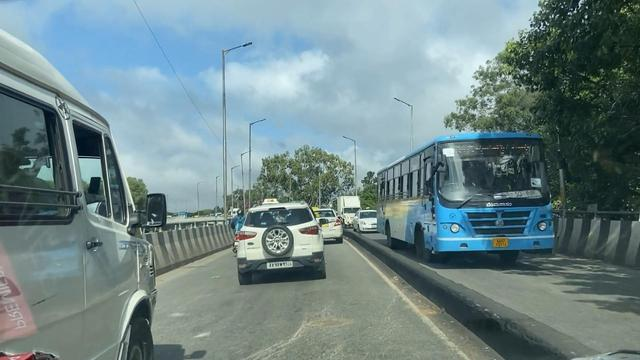LMV: (233, 204, 324, 275)
UnsurfacedRoad: (273, 308, 355, 355)
